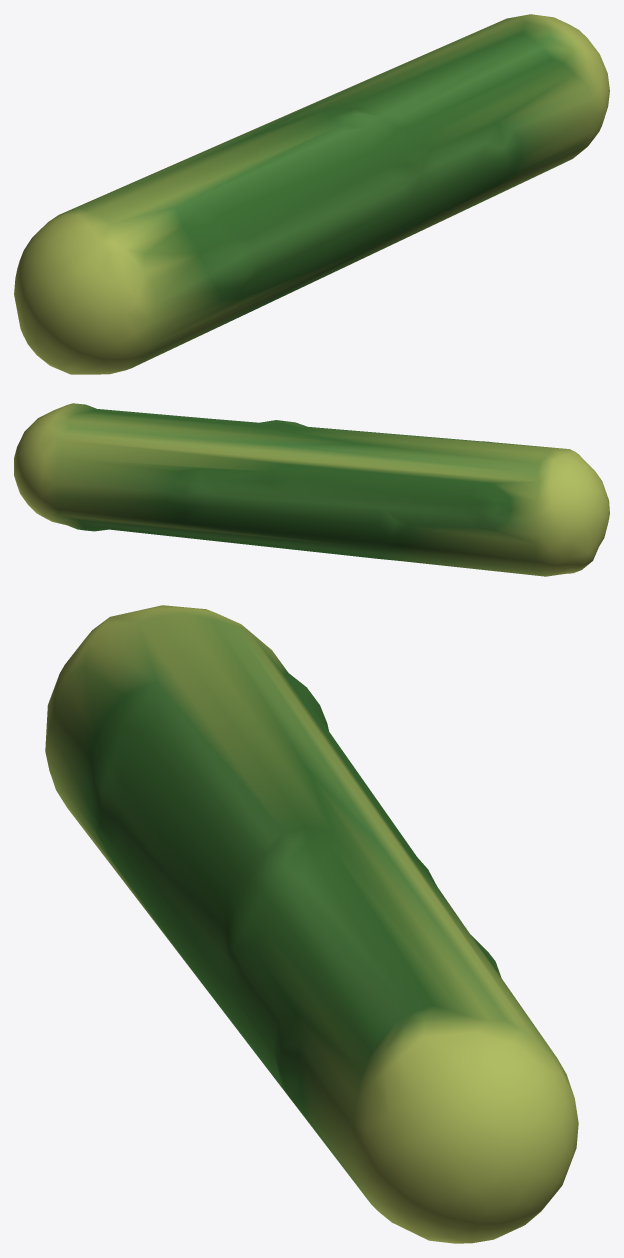
File: dua_leo.glb
3 views of the same model, one above another, from view 1: azimuth 30°, elevation 25°; view 2: azimuth 150°, elevation 25°; view 3: azimuth 270°, elevation 25° (orthographic). The views are drawn at different scales.
Visible parts, largest first — view 1: dua_leo; view 2: dua_leo; view 3: dua_leo.
Boxes of the visible parts, x1,y1,x2,y2 form: dua_leo: [14, 14, 609, 374]; dua_leo: [14, 403, 609, 576]; dua_leo: [45, 605, 578, 1243].
Bounding box in the file's own units: 0.2178 × 0.0479 × 0.099.
